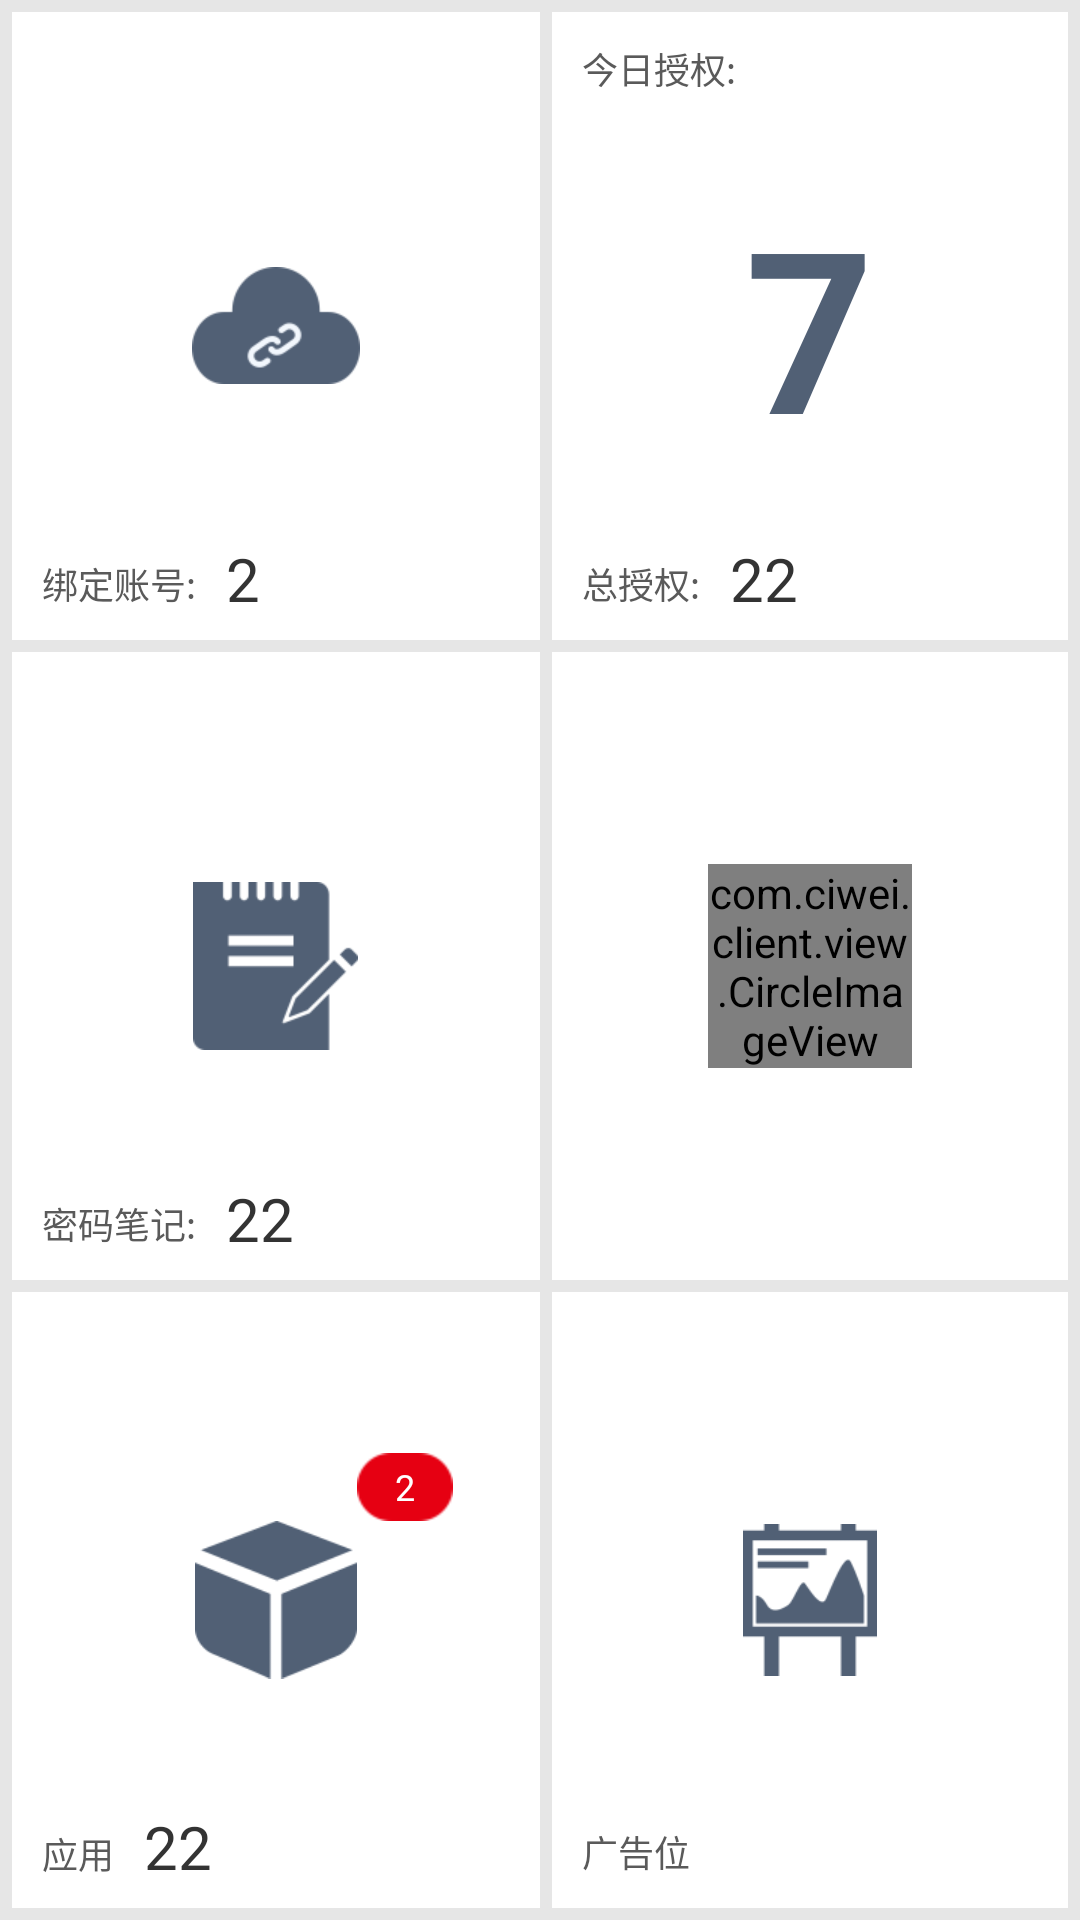

Named icons in this screenshot (1080w x 1920h) and their centers, point (x, y):
home ad: point (810, 1600)
home note: point (275, 966)
recommend app: point (276, 1600)
